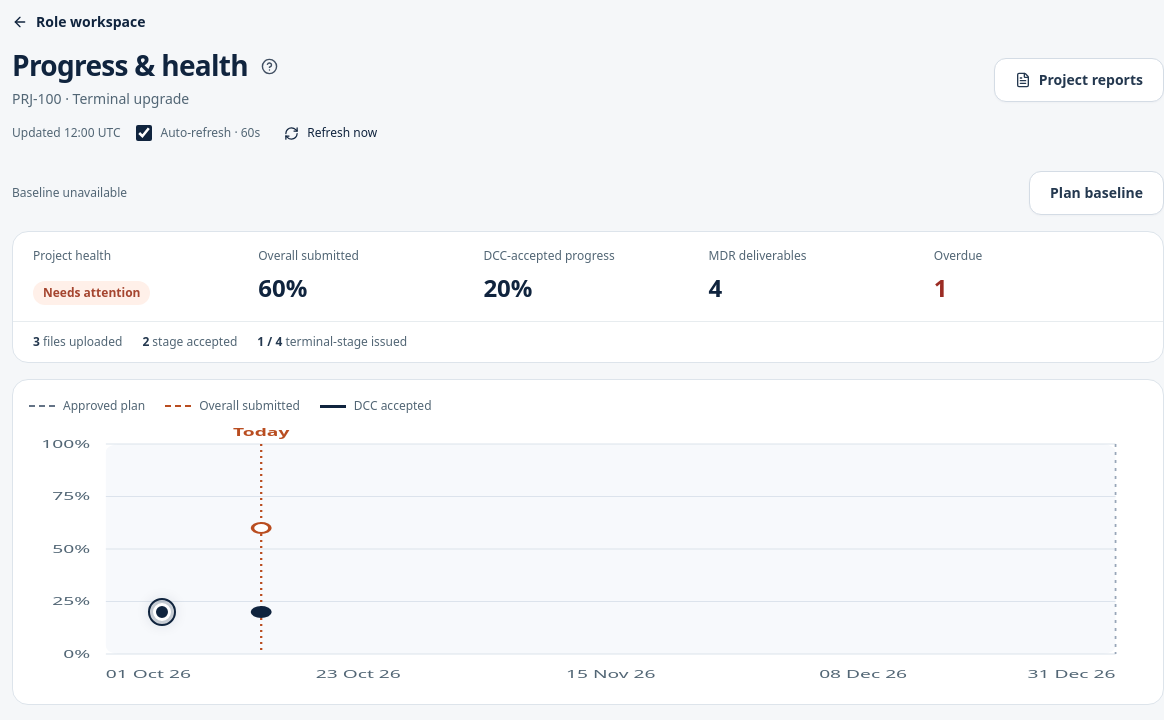
Scenario: compact progress and health summary › keeps FEED terminal milestone explanation behind keyboard-accessible help
The width and height of the screenshot is (1164, 720).
Focus the button named "Stage-weighted progress": x=270, y=66 [254,50,286,82]
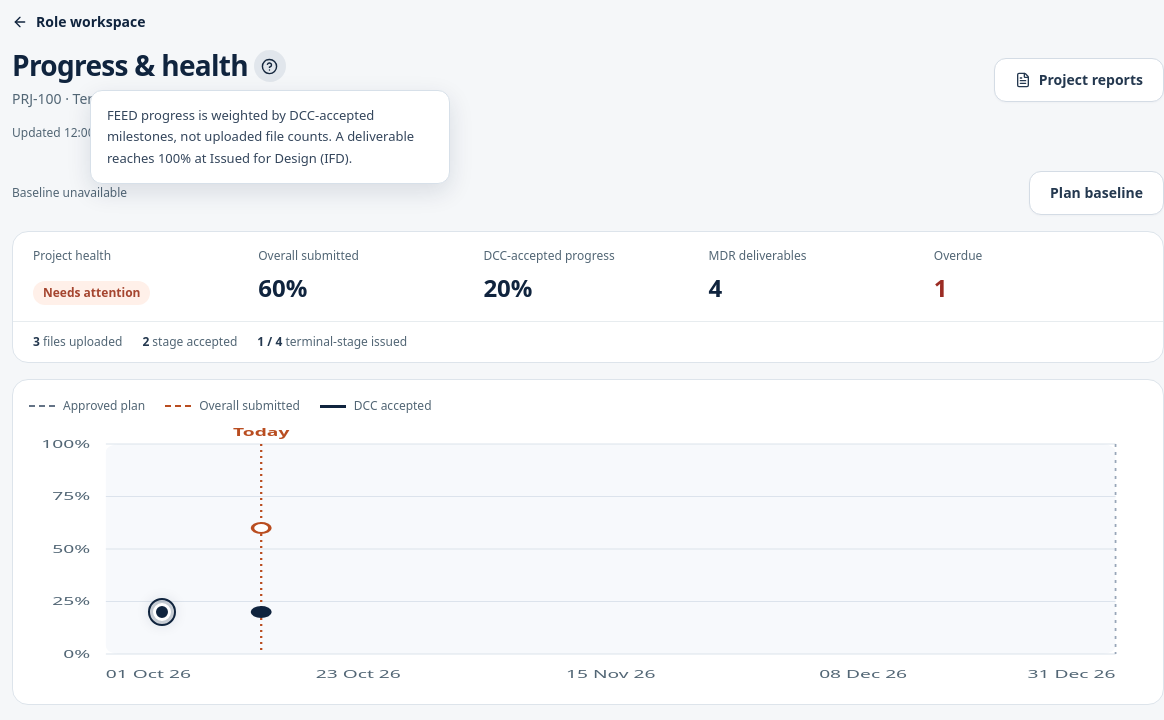
Expected: the tooltip shows "FEED", [107,106,138,124]
Expected: the tooltip shows "Issued for Design (IFD)", [210,149,349,167]
Expected: the tooltip shows "weighted by DCC-accepted milestones, not uploaded file counts", [107,106,414,167]
